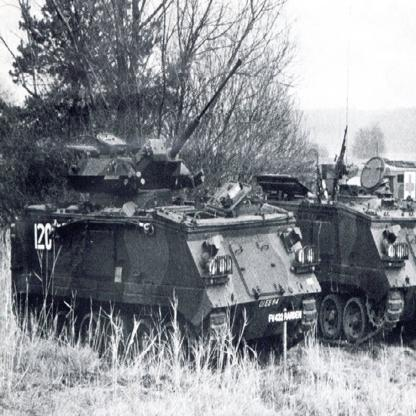Tank: (5, 136, 326, 372), (252, 142, 416, 355)
